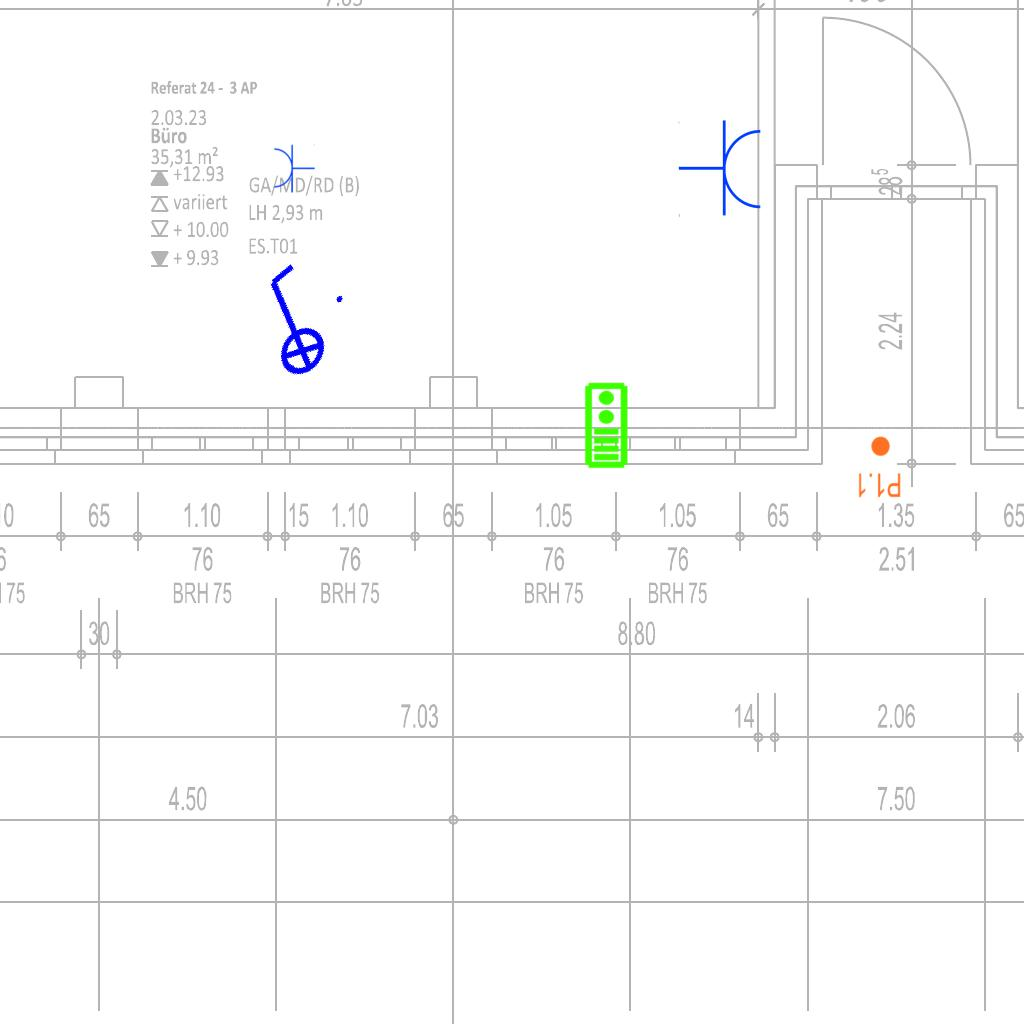Ausschalter_beleuchtet: (219, 248, 363, 396)
Downlight_LED_Einbauleuchten_Flur: (856, 435, 902, 499)
Gegensprechanlage_mit_Video: (582, 381, 629, 469)
Schukosteckdose_einfach: (678, 119, 765, 219), (272, 143, 315, 193)
